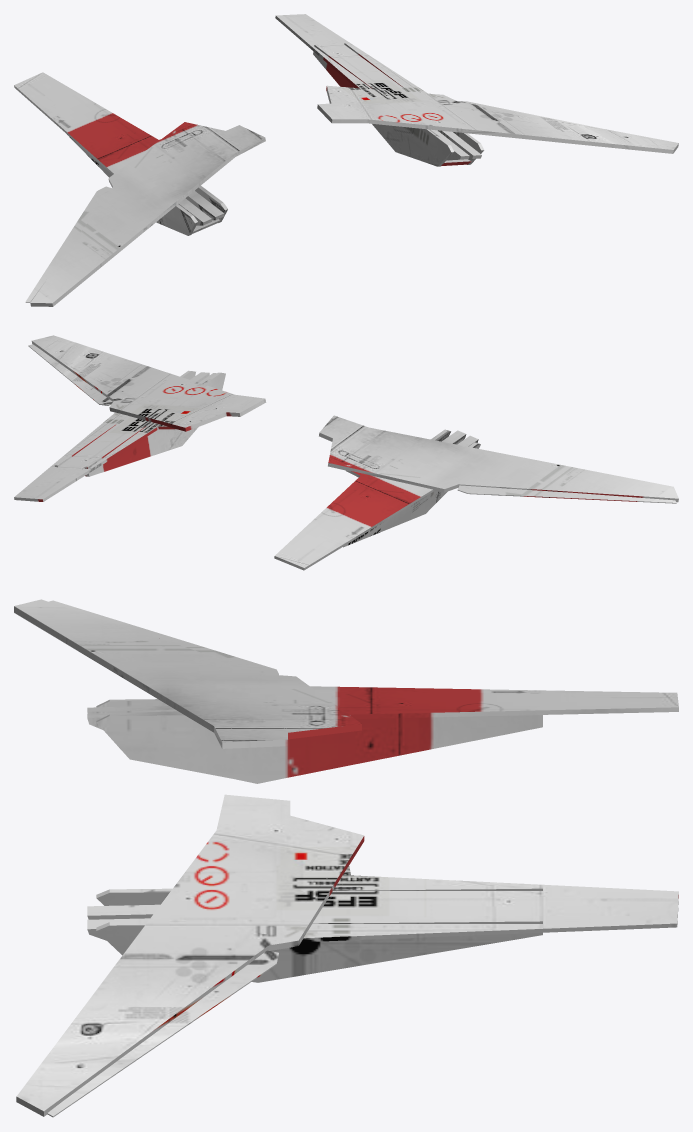
Rendered from wing12.FBX.
3 renders of one model, top to bottom at view 1: azimuth 30°, elevation 25°; view 2: azimuth 150°, elevation 25°; view 3: azimuth 270°, elevation 25°, orthographic. The views are drawn at different scales.
Visible parts, largest first — view 1: wing12; view 2: wing12; view 3: wing12.
Boxes of the visible parts, box(x1,y1,x2,y2) form: wing12: box(14, 14, 678, 306); wing12: box(14, 335, 678, 570); wing12: box(14, 599, 678, 1117).
Bounding box in the file's own units: 1843 × 182 × 1006.
